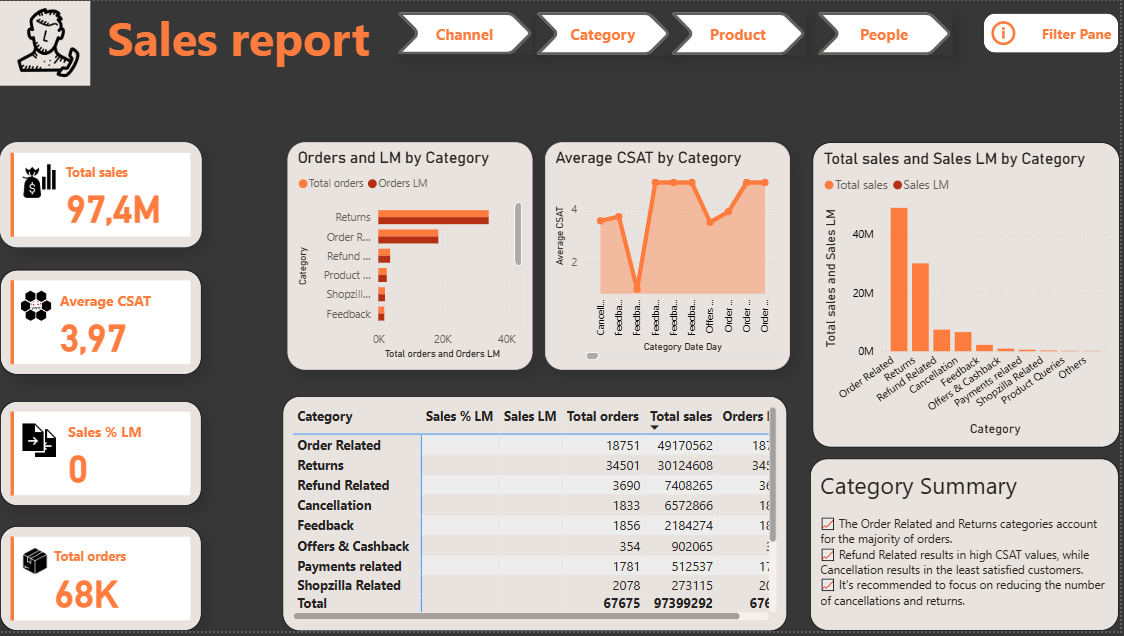

The dashboard page shown, as its layout file describes it:
{"tool":"powerbi","page":{"name":"Page 1","canvas":[1280,720],"ordinal":0},"visuals":[{"type":"cardVisual","fields":{"Data":["Measures Table.Total sales"]},"box":[0,161.4,230,120],"z":0},{"type":"donutChart","fields":{"Y":["Measures Table.Average CSAT"],"Series":["Channel.Channel"]},"box":[619.8,161.4,280,260],"z":0,"group":"g1"},{"type":"donutChart","fields":{"Category":["Channel.Channel"],"Y":["Measures Table.Total orders"]},"box":[331.2,161.4,280,260],"z":1000,"group":"g1"},{"type":"cardVisual","fields":{"Data":["Measures Table.Total orders"]},"box":[0,600,230,120],"z":1000},{"type":"lineStackedColumnComboChart","fields":{"Category":["Channel.Channel"],"Y":["Measures Table.Total sales","Measures Table.Sales LM"]},"box":[929.6,160,350,348.6],"z":2000,"group":"g1"},{"type":"cardVisual","fields":{"Data":["Measures Table.Average CSAT"]},"box":[0,307.1,230,120],"z":2000},{"type":"pivotTable","fields":{"Values":["Measures Table.Sales % LM","Measures Table.Sales LM","Measures Table.Total orders","Measures Table.Total sales","Measures Table.Orders LM"],"Rows":["Channel.Channel"]},"box":[329.6,456.6,577.1,262.9],"z":3000,"group":"g1"},{"type":"cardVisual","fields":{"Data":["Measures Table.Sales % LM"]},"box":[0,457.1,230,120],"z":3000},{"type":"image","box":[0,0,103.3,96.7],"z":4000},{"type":"textbox","box":[928.2,529.4,350,190],"z":4000,"group":"g1"},{"type":"textbox","box":[103.3,0,345,83.3],"z":5000},{"type":"actionButton","box":[1118.3,18.3,153.7,44.8],"z":5000,"group":"g1"},{"type":"actionButton","box":[561.5,118.6,50.6,43.6],"z":5000},{"type":"group","id":"g1","title":"Channel","box":[329.6,18.3,950,701.2],"z":7000},{"type":"actionButton","title":"Channel","box":[452.8,12.8,156,48],"z":15000},{"type":"actionButton","title":"Channel","box":[611,12.8,155,48.8],"z":16000},{"type":"actionButton","title":"Channel","box":[766,12.8,155,48.8],"z":17000},{"type":"actionButton","title":"Channel","box":[932.3,12.8,155,48.8],"z":18000}]}

Visuals, with their boxes in screenshot pixels (x1, y1, x2, y2), scaled from the page's 1280x720 canvas onto the 1124x636 screenshot:
cardVisual - Measures Table.Total sales: {"x1": 0, "y1": 143, "x2": 202, "y2": 249}
donutChart - Measures Table.Average CSAT x Channel.Channel: {"x1": 544, "y1": 143, "x2": 790, "y2": 372}
donutChart - Channel.Channel x Measures Table.Total orders: {"x1": 291, "y1": 143, "x2": 537, "y2": 372}
cardVisual - Measures Table.Total orders: {"x1": 0, "y1": 530, "x2": 202, "y2": 635}
lineStackedColumnComboChart - Channel.Channel x Measures Table.Total sales: {"x1": 816, "y1": 141, "x2": 1123, "y2": 449}
cardVisual - Measures Table.Average CSAT: {"x1": 0, "y1": 271, "x2": 202, "y2": 377}
pivotTable - Measures Table.Sales % LM x Measures Table.Sales LM: {"x1": 289, "y1": 403, "x2": 796, "y2": 635}
cardVisual - Measures Table.Sales % LM: {"x1": 0, "y1": 404, "x2": 202, "y2": 510}
image: {"x1": 0, "y1": 0, "x2": 91, "y2": 85}
textbox: {"x1": 815, "y1": 468, "x2": 1122, "y2": 635}
textbox: {"x1": 91, "y1": 0, "x2": 394, "y2": 74}
actionButton: {"x1": 982, "y1": 16, "x2": 1117, "y2": 56}
actionButton: {"x1": 493, "y1": 105, "x2": 538, "y2": 143}
"Channel" group: {"x1": 289, "y1": 16, "x2": 1123, "y2": 635}
"Channel" actionButton: {"x1": 398, "y1": 11, "x2": 535, "y2": 54}
"Channel" actionButton: {"x1": 537, "y1": 11, "x2": 673, "y2": 54}
"Channel" actionButton: {"x1": 673, "y1": 11, "x2": 809, "y2": 54}
"Channel" actionButton: {"x1": 819, "y1": 11, "x2": 955, "y2": 54}
